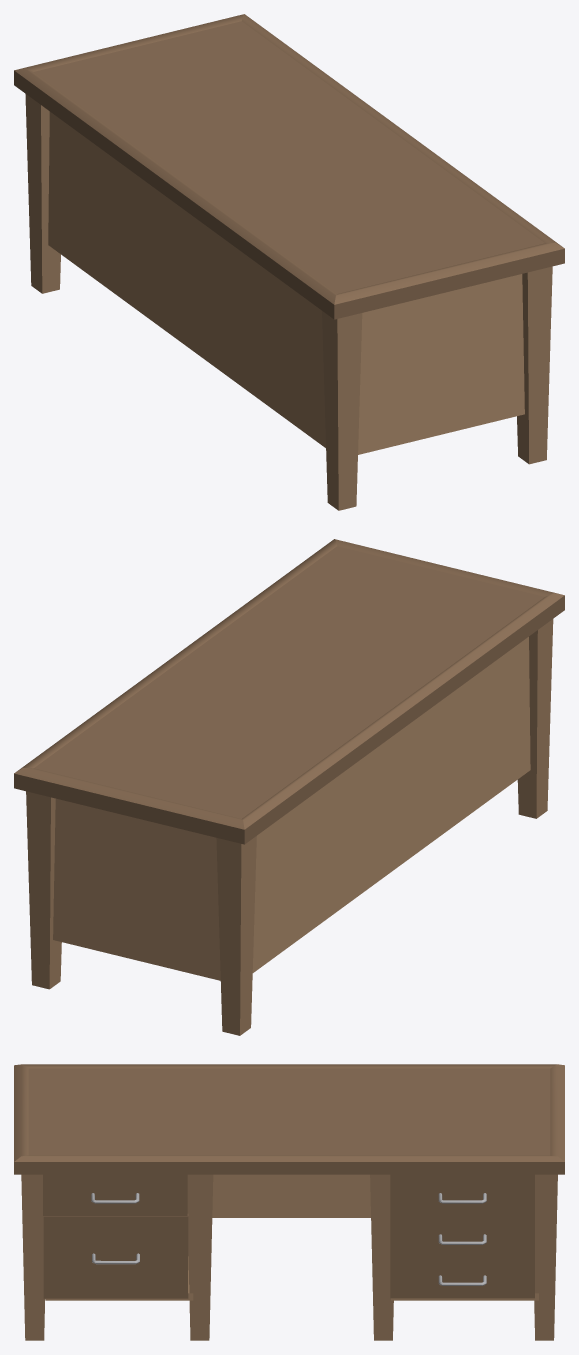
Rendered from O_Environment_Desk.fbx.
3 renders of one model, top to bottom at view 1: azimuth 30°, elevation 25°; view 2: azimuth 150°, elevation 25°; view 3: azimuth 270°, elevation 25°, orthographic. The views are drawn at different scales.
Parts seen in each view (by area): view 1: polySurface45; view 2: polySurface45; view 3: polySurface45.
Boxes of the visible parts, x1=… form: polySurface45: x1=14, y1=14, x2=564, y2=510; polySurface45: x1=14, y1=539, x2=564, y2=1035; polySurface45: x1=14, y1=1064, x2=564, y2=1340.
Bounding box in the file's own units: 2.53 × 2.12 × 5.65.
